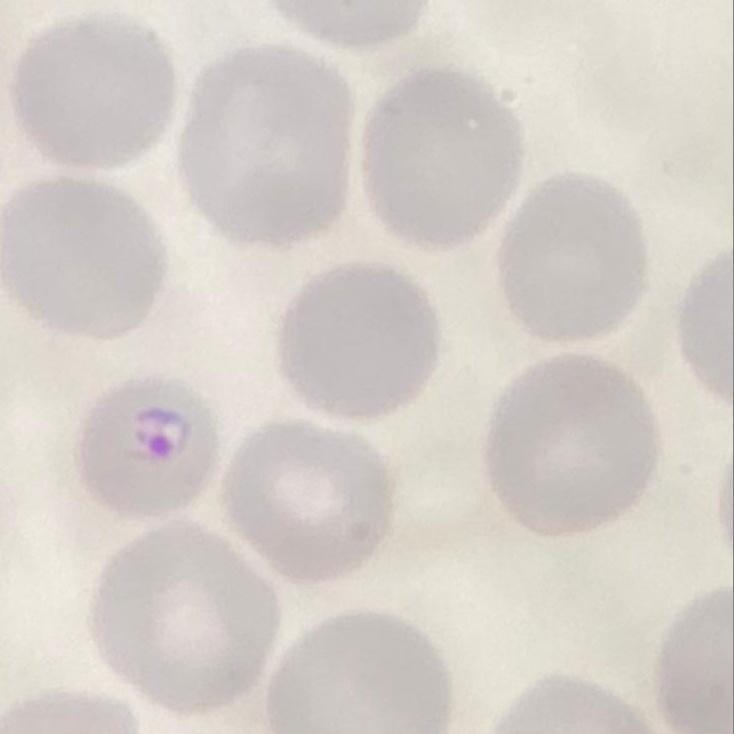Infected: (74, 377, 225, 513)
Uninfected: (176, 49, 353, 244), (102, 529, 278, 711), (486, 357, 662, 537), (366, 69, 527, 242), (222, 423, 395, 582), (0, 181, 169, 341), (280, 263, 445, 417), (14, 13, 173, 169), (502, 171, 643, 344), (258, 613, 449, 734)
